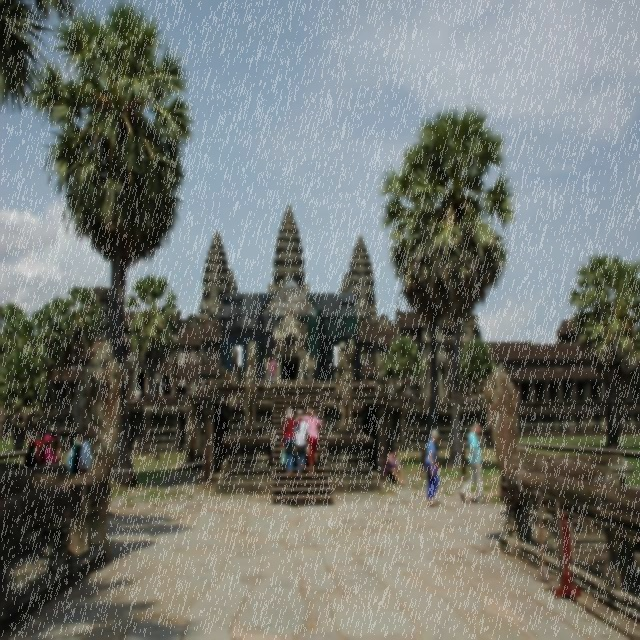pessoa: (459, 421, 487, 504), (296, 408, 322, 474), (282, 407, 302, 475), (292, 408, 310, 476), (425, 428, 440, 506), (385, 446, 406, 486), (42, 434, 64, 464), (78, 430, 92, 476), (36, 426, 48, 466), (70, 434, 82, 474), (48, 430, 62, 464), (23, 438, 38, 468), (66, 436, 76, 474), (269, 356, 276, 382), (130, 387, 142, 402), (168, 382, 178, 394)
